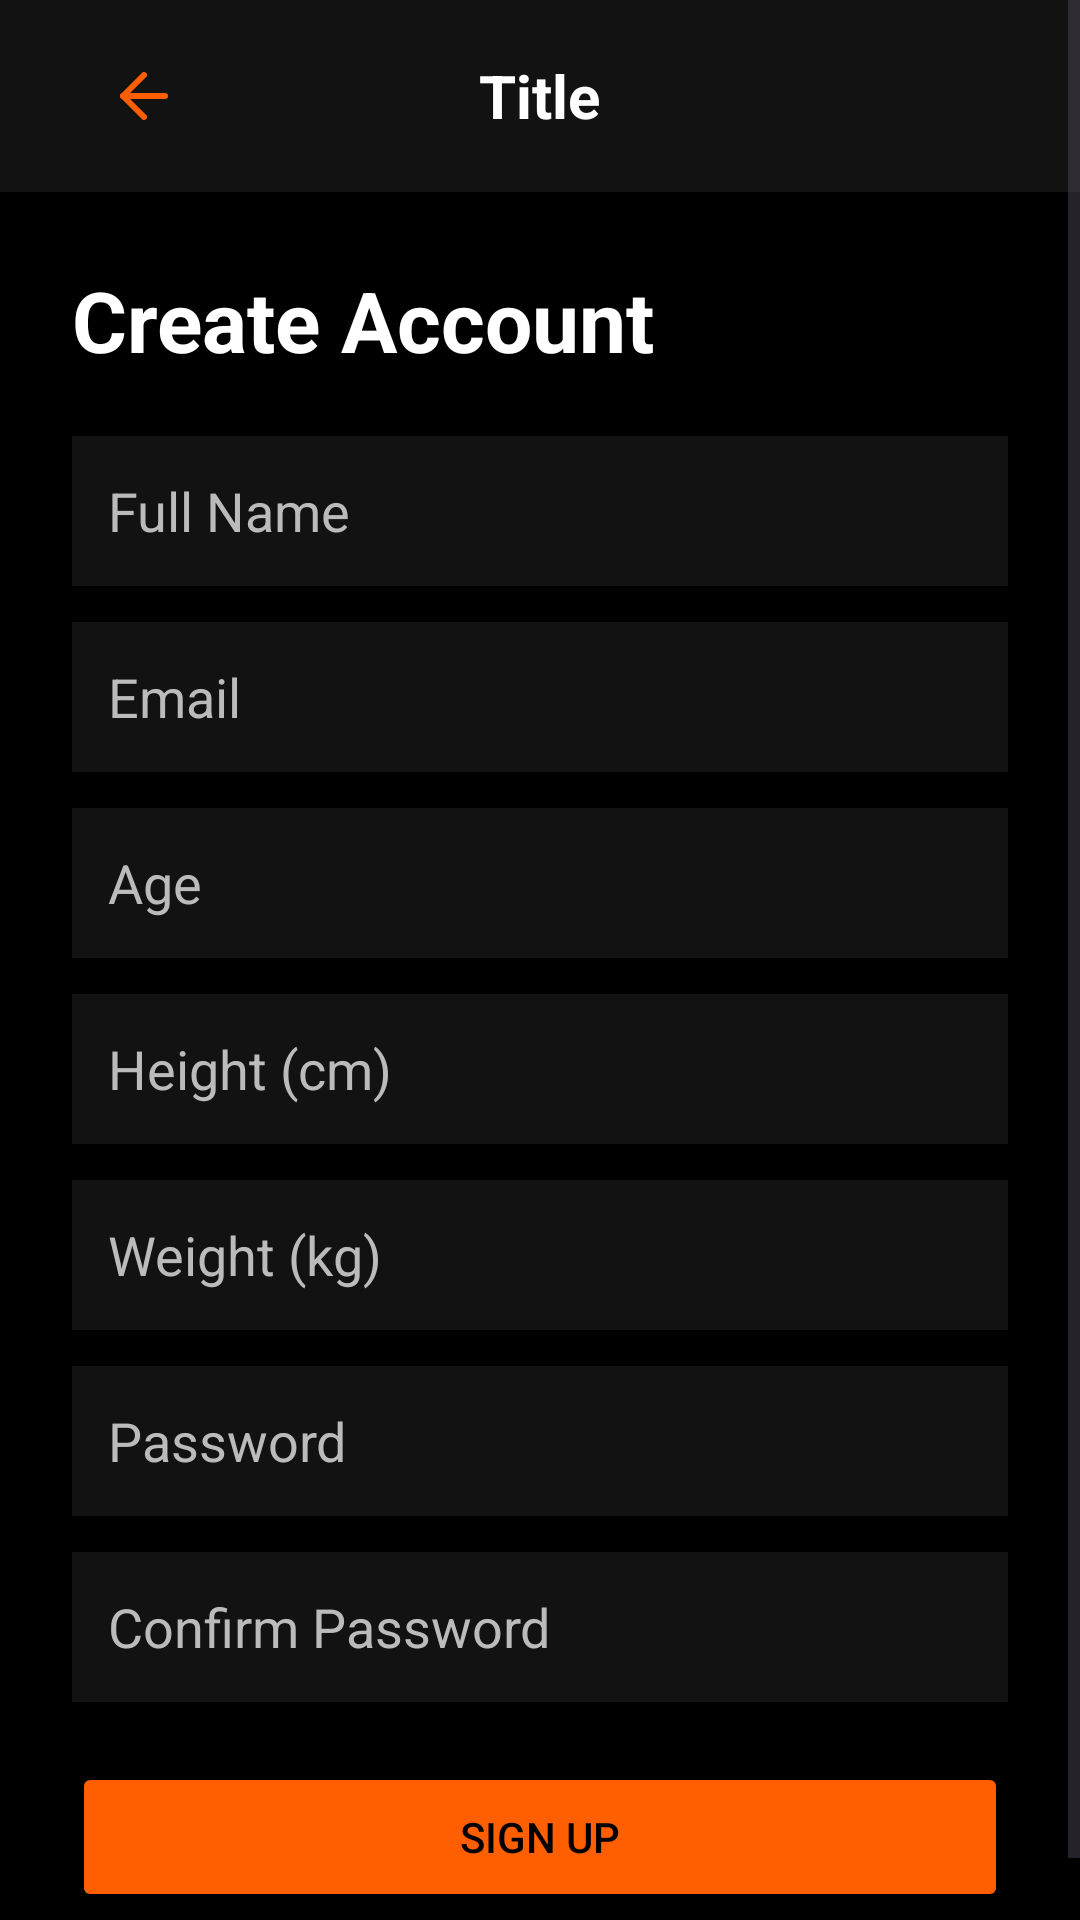

Named icons in this screenshot (1080×1920) and their bounding boxes, bbox=[x1, y1, x2, y2]:
go back: bbox=[120, 72, 168, 120]
